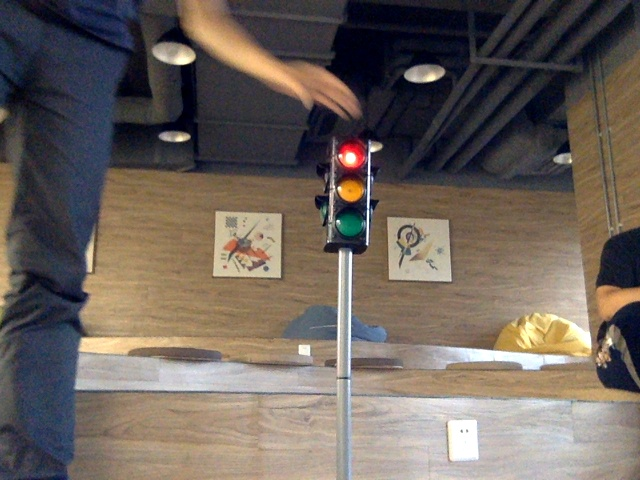red: (329, 139, 368, 243)
